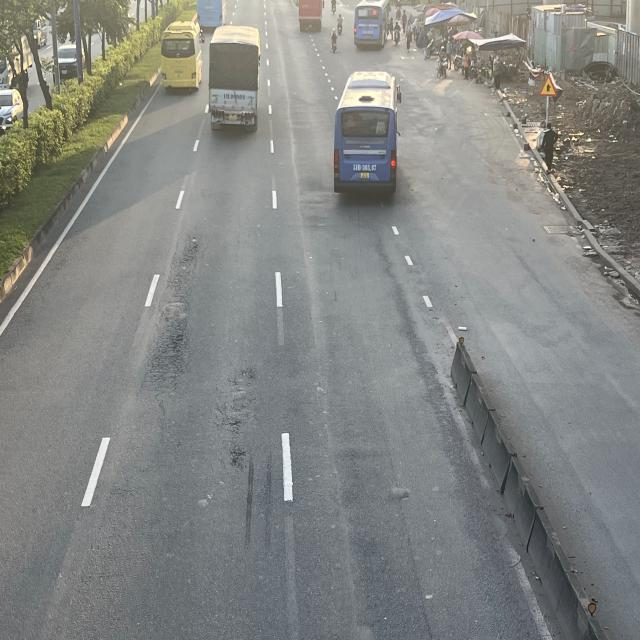coach: (335, 74, 403, 200), (159, 18, 201, 90), (353, 0, 389, 47)
truck: (206, 27, 261, 134)
